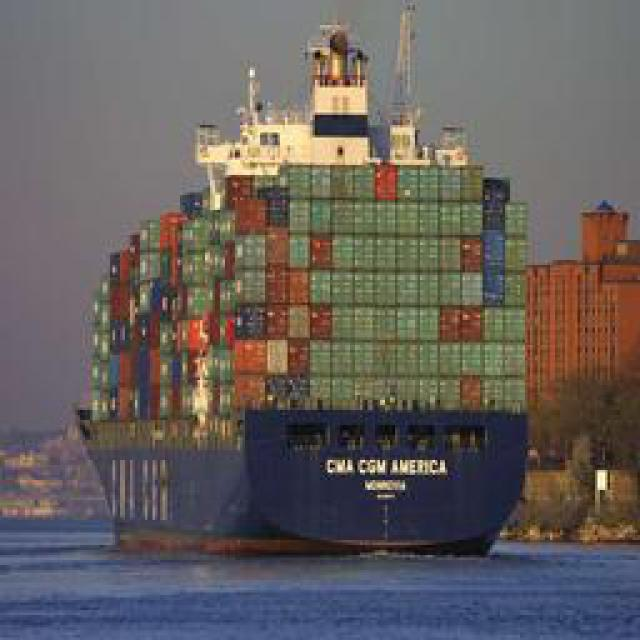Ship: (63, 4, 561, 574)
